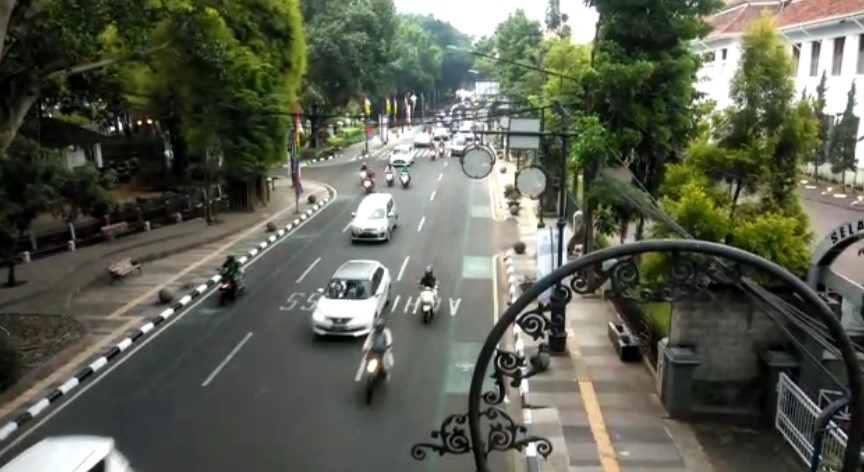mobil: (305, 256, 390, 337), (349, 191, 400, 245)
motor: (358, 321, 396, 403), (214, 254, 248, 303), (415, 263, 443, 322)
